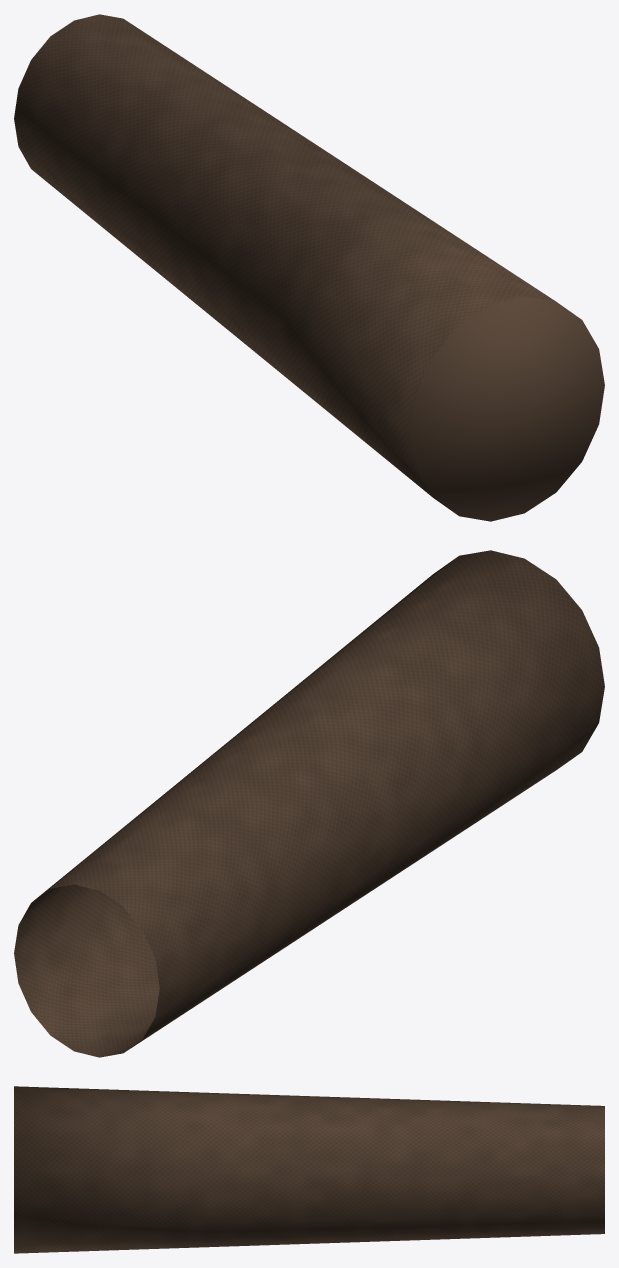
File: fp_upper_frontier.glb
The picture shows the model from 3 angles, top to bottom: view 1: azimuth 30°, elevation 25°; view 2: azimuth 150°, elevation 25°; view 3: azimuth 270°, elevation 25°; orthographic projection. The views are drawn at different scales.
Visible parts, largest first — view 1: fp_upper; view 2: fp_upper; view 3: fp_upper.
Part boxes in pixels (x1,y1,x2,y2): fp_upper: [14, 14, 604, 521]; fp_upper: [14, 550, 604, 1057]; fp_upper: [14, 1086, 604, 1253].
Size of the model in its own units: 0.096 by 0.1024 by 0.36.
Materials: 1 (1 with a texture image).
